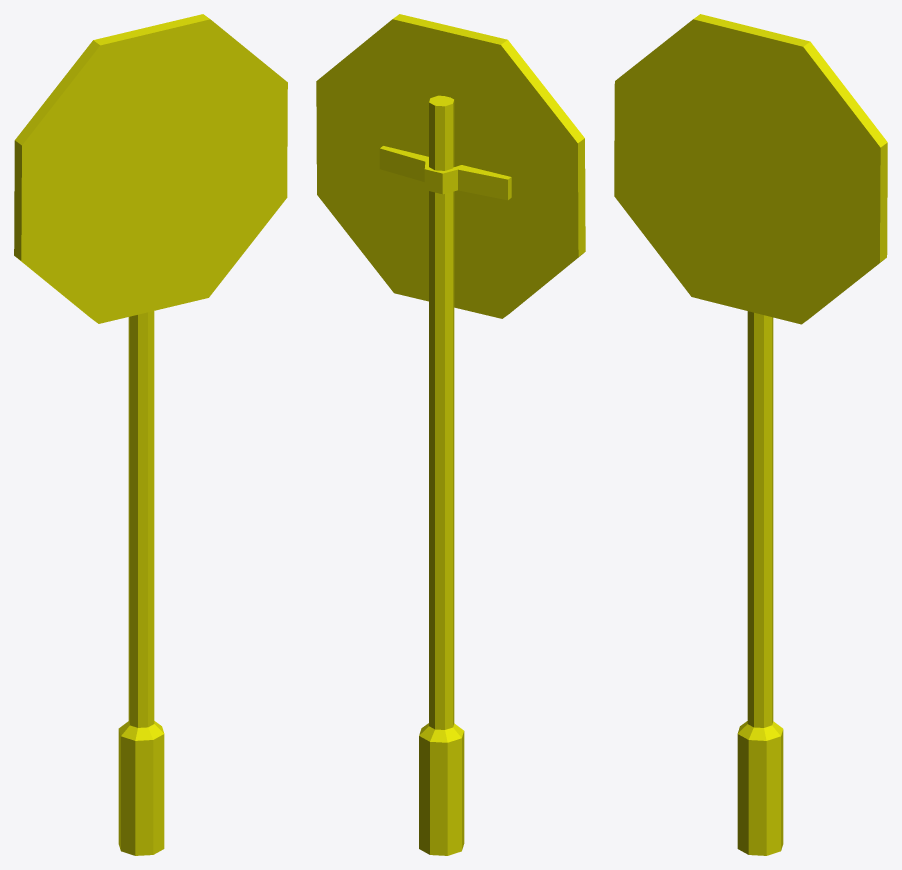
File: cty_stopsign.glb
The picture shows the model from 3 angles, left to right: view 1: azimuth 30°, elevation 25°; view 2: azimuth 150°, elevation 25°; view 3: azimuth 330°, elevation 25°; orthographic projection.
Parts seen in each view (by area): view 1: SM_Prop_Sign_Stop_01; view 2: SM_Prop_Sign_Stop_01; view 3: SM_Prop_Sign_Stop_01.
Part boxes in pixels (x1,y1,x2,y2): SM_Prop_Sign_Stop_01: [14, 14, 287, 855]; SM_Prop_Sign_Stop_01: [316, 14, 585, 855]; SM_Prop_Sign_Stop_01: [614, 14, 887, 855].
Bounding box in the file's own units: 0.00769 × 0.0227 × 0.00125.
Materials: 1 (1 with a texture image).
